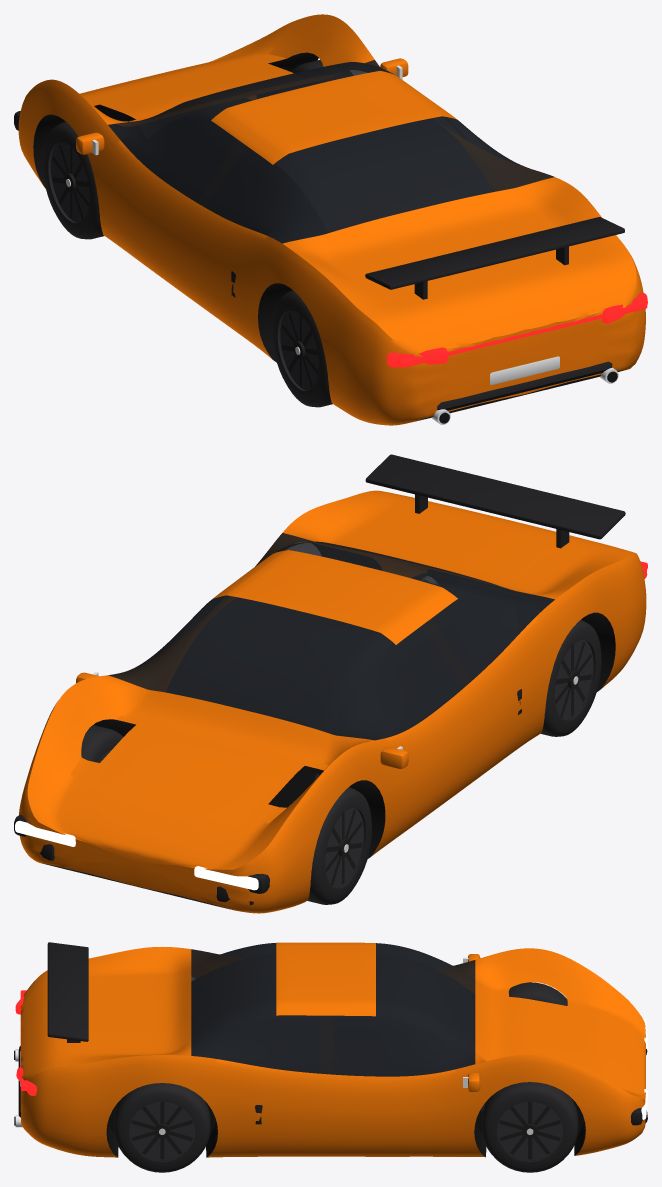
The model's file is mclaren_720s.glb.
The picture shows the model from 3 angles, top to bottom: view 1: azimuth 30°, elevation 25°; view 2: azimuth 150°, elevation 25°; view 3: azimuth 270°, elevation 25°; orthographic projection. The views are drawn at different scales.
Visible parts, largest first — view 1: Body, Wheel_FL, Wheel_RL; view 2: Body, Wheel_FL, Wheel_RL, Wheel_FR; view 3: Body, Wheel_FR, Wheel_RR, Wheel_FL.
Part boxes in pixels (left/top/right/bottom): Body: left=14, top=14, right=647, bottom=425; Wheel_FL: left=42, top=122, right=103, bottom=239; Wheel_RL: left=272, top=290, right=332, bottom=407; Body: left=14, top=454, right=647, bottom=913; Wheel_FL: left=307, top=787, right=371, bottom=904; Wheel_RL: left=540, top=620, right=601, bottom=736; Wheel_FR: left=81, top=725, right=123, bottom=762; Body: left=14, top=942, right=647, bottom=1157; Wheel_FR: left=482, top=1082, right=578, bottom=1172; Wheel_RR: left=114, top=1083, right=210, bottom=1172; Wheel_FL: left=508, top=982, right=567, bottom=1005.
Size of the model in its own units: 2.2 by 1.2 by 4.6.
